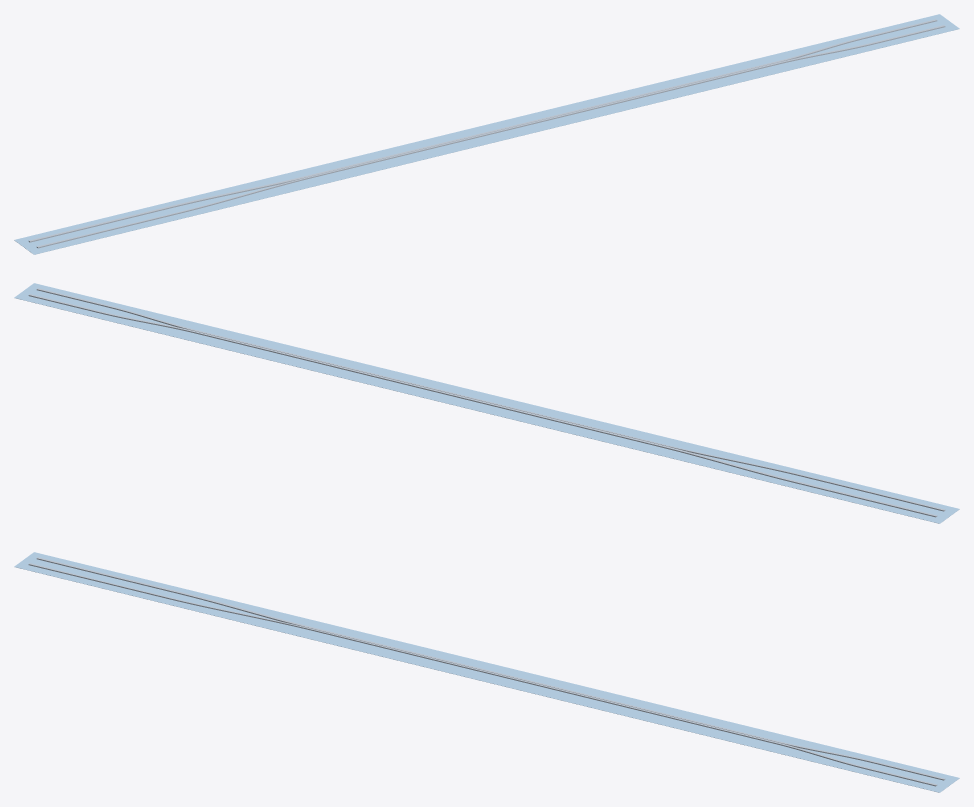
File: siepic-adiabatic.glb
3 views of the same model, one above another, from view 1: azimuth 30°, elevation 25°; view 2: azimuth 150°, elevation 25°; view 3: azimuth 330°, elevation 25° (orthographic).
Parts seen in each view (by area): view 1: box_top, core_0, core_1; view 2: box_top, core_1, core_0; view 3: box_top, core_0, core_1.
Boxes of the visible parts, bbox=[...] form: box_top: bbox=[14, 14, 959, 254]; core_0: bbox=[36, 25, 945, 248]; core_1: bbox=[28, 19, 937, 242]; box_top: bbox=[14, 283, 959, 523]; core_1: bbox=[28, 294, 937, 517]; core_0: bbox=[36, 288, 945, 511]; box_top: bbox=[14, 552, 959, 792]; core_0: bbox=[28, 563, 937, 786]; core_1: bbox=[36, 557, 945, 780].
Size of the model in its own units: 200 by 0.26 by 7.53.
